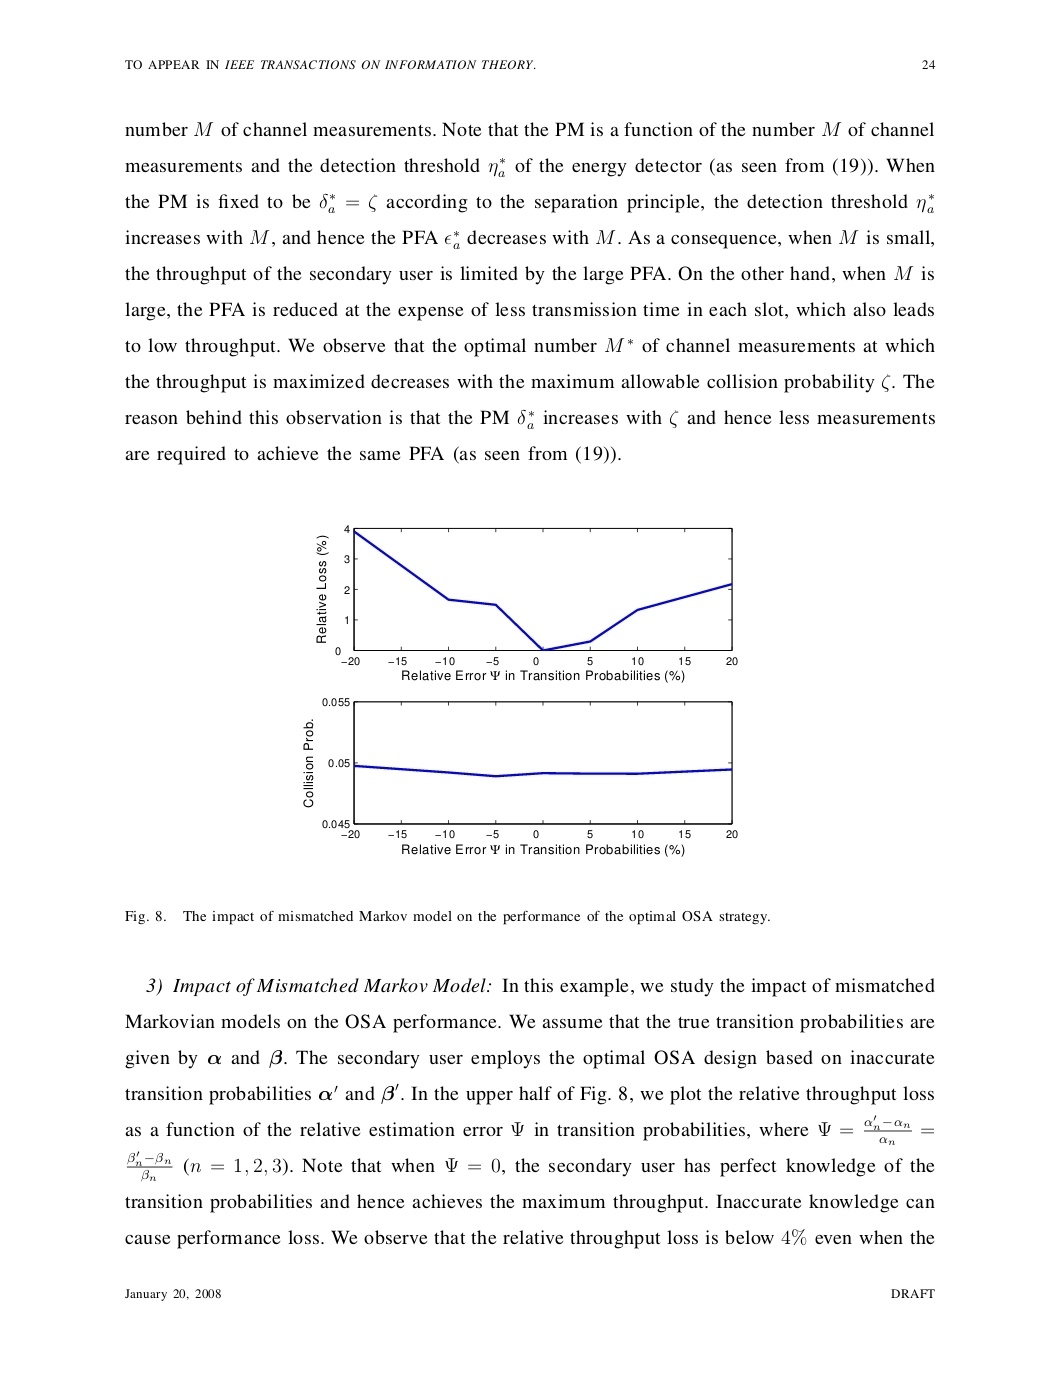figure: (303, 698, 737, 856), (317, 525, 737, 682)
